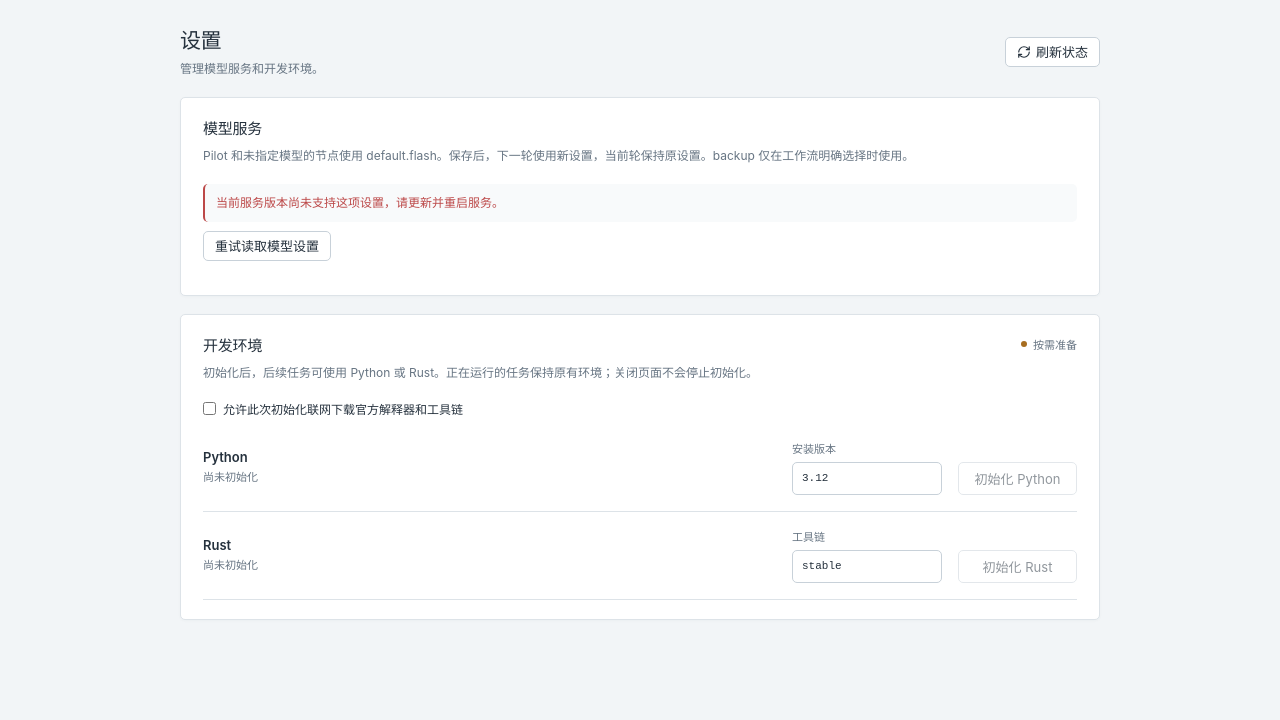
it: Host settings › ignores a delayed refresh from before initialization and keeps polling the accepted operation
Step 1. Click the checkbox labelled "允许此次初始化联网下载官方解释器和工具链" → click(210, 408), box [203, 402, 216, 415]
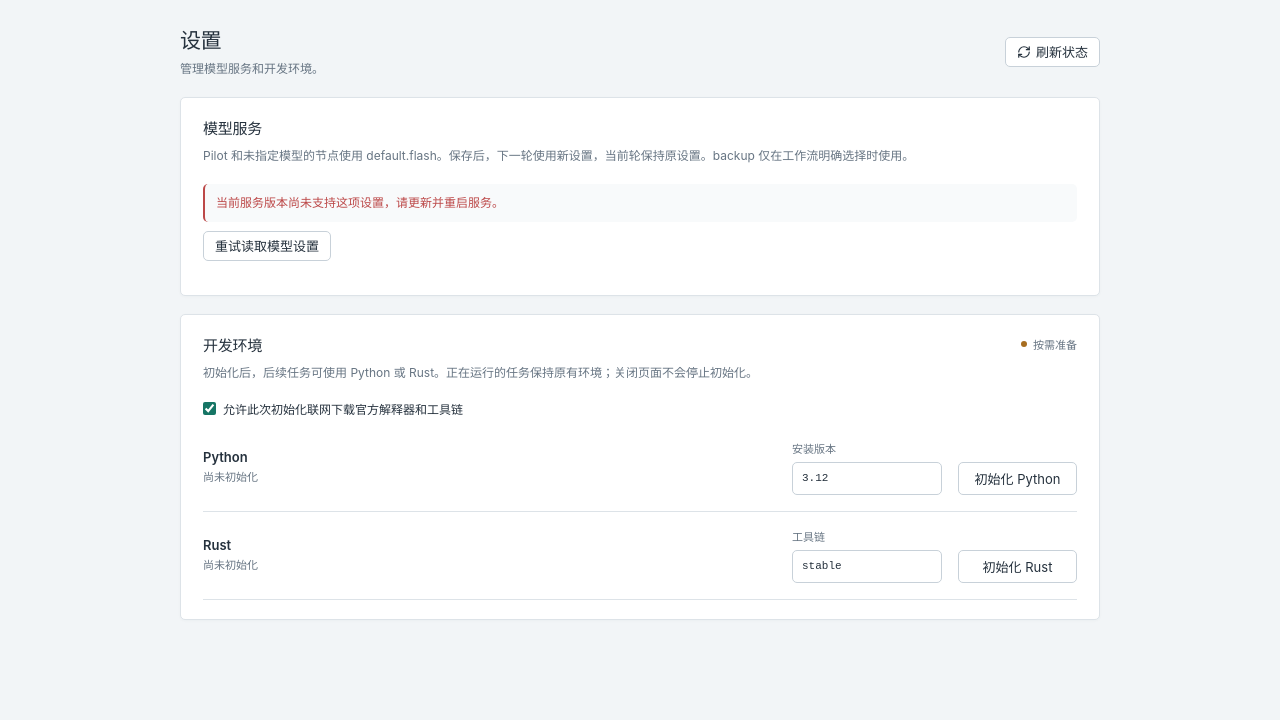
Step 2. Click the button "刷新状态" → click(1052, 52), box [1005, 37, 1100, 67]
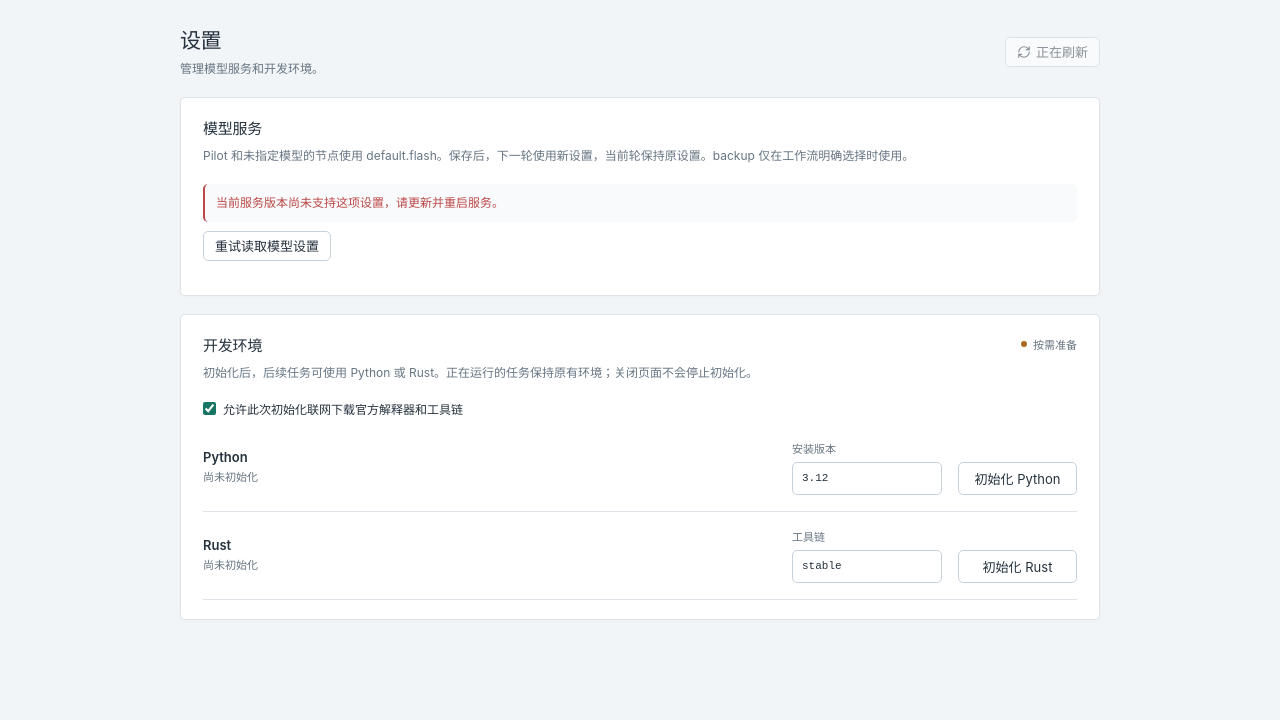
Step 3. Click the button "初始化 Python" → click(1018, 478), box [958, 462, 1077, 495]
Wait 1500 ms
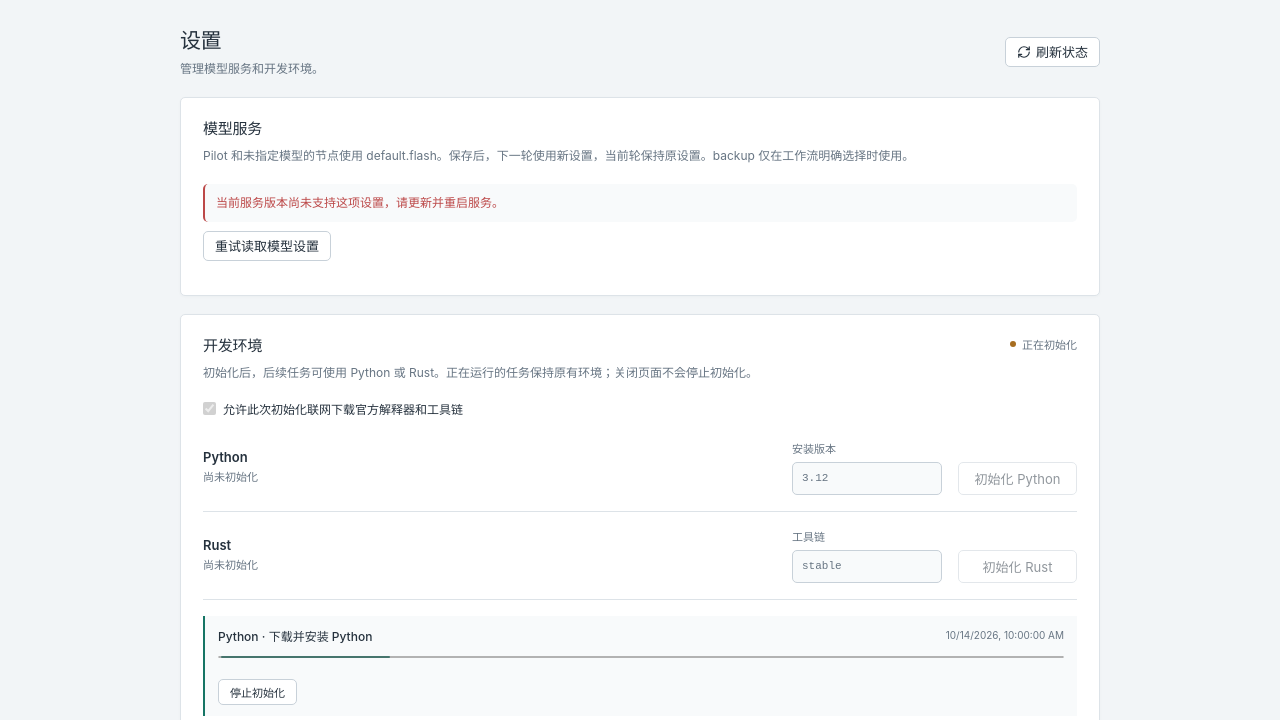
Expected: the progress indicator named "环境初始化进度" is shown, [218, 655, 1064, 659]
Expected: the button "初始化 Python" is disabled, [958, 462, 1077, 495]
Expected: the button "刷新状态" is enabled, [1005, 37, 1100, 67]
